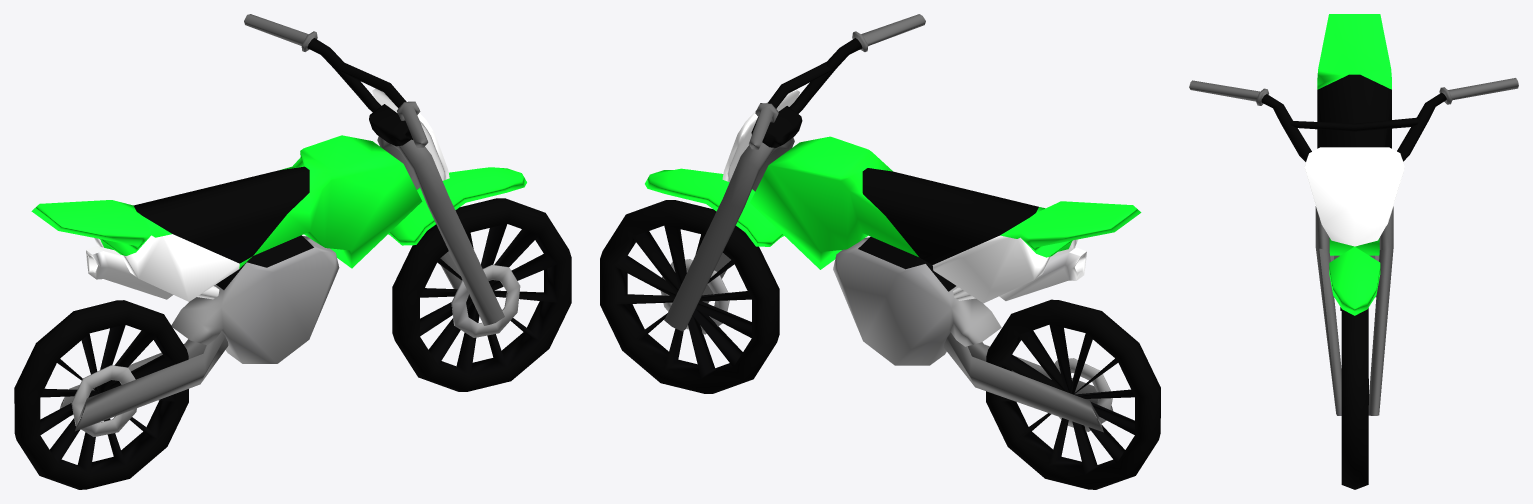
The model's file is DirtBike250ccGreen.glb.
3 renders of one model, left to right at view 1: azimuth 30°, elevation 25°; view 2: azimuth 150°, elevation 25°; view 3: azimuth 270°, elevation 25°, orthographic. The views are drawn at different scales.
Visible parts, largest first — view 1: DirtBike250ccGreen; view 2: DirtBike250ccGreen; view 3: DirtBike250ccGreen.
Part boxes in pixels (bbox=[...]): DirtBike250ccGreen: bbox=[14, 14, 571, 489]; DirtBike250ccGreen: bbox=[600, 14, 1160, 489]; DirtBike250ccGreen: bbox=[1189, 14, 1518, 489].
Bounding box in the file's own units: 2.46 × 1.49 × 1.33.
Materials: 1 (1 with a texture image).
